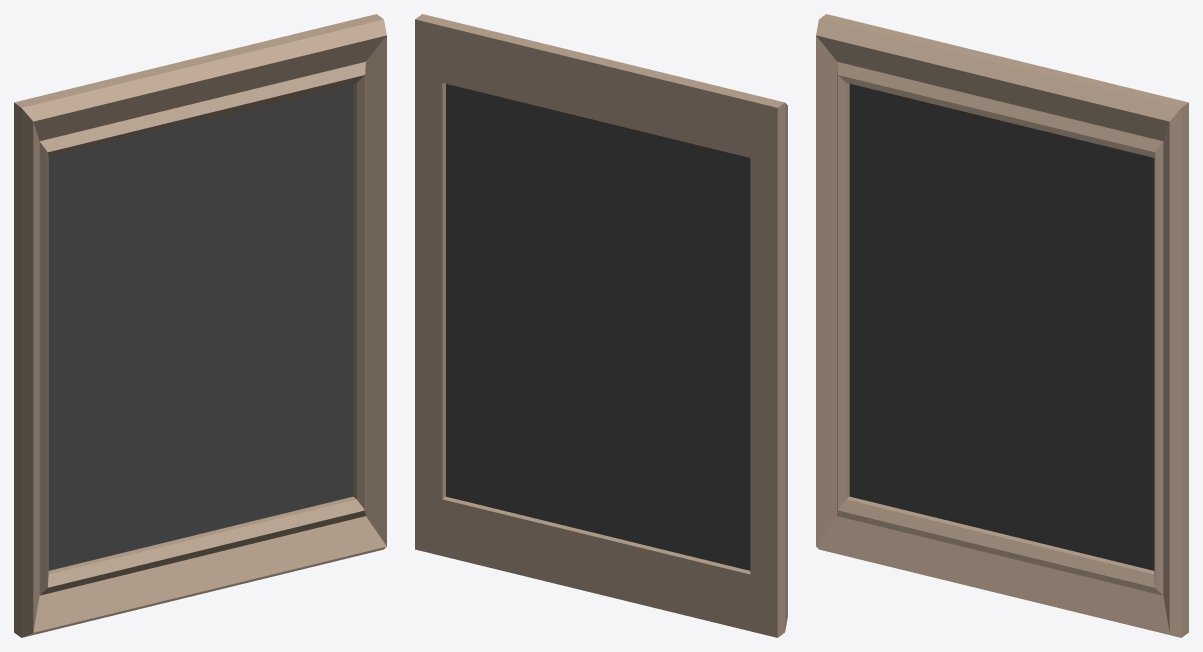
The model's file is Mirror.fbx.
3 views of the same model, side by side, from view 1: azimuth 30°, elevation 25°; view 2: azimuth 150°, elevation 25°; view 3: azimuth 330°, elevation 25° (orthographic).
Visible parts, largest first — view 1: object1, object2; view 2: object1, object2; view 3: object1, object2.
Part boxes in pixels (x1=…): object1: x1=48, y1=84, x2=353, y2=570; object2: x1=14, y1=14, x2=386, y2=637; object1: x1=446, y1=84, x2=750, y2=570; object2: x1=415, y1=14, x2=787, y2=637; object1: x1=849, y1=84, x2=1154, y2=570; object2: x1=816, y1=14, x2=1188, y2=637.
Bounding box in the file's own units: 70.82 × 98.93 × 5.
